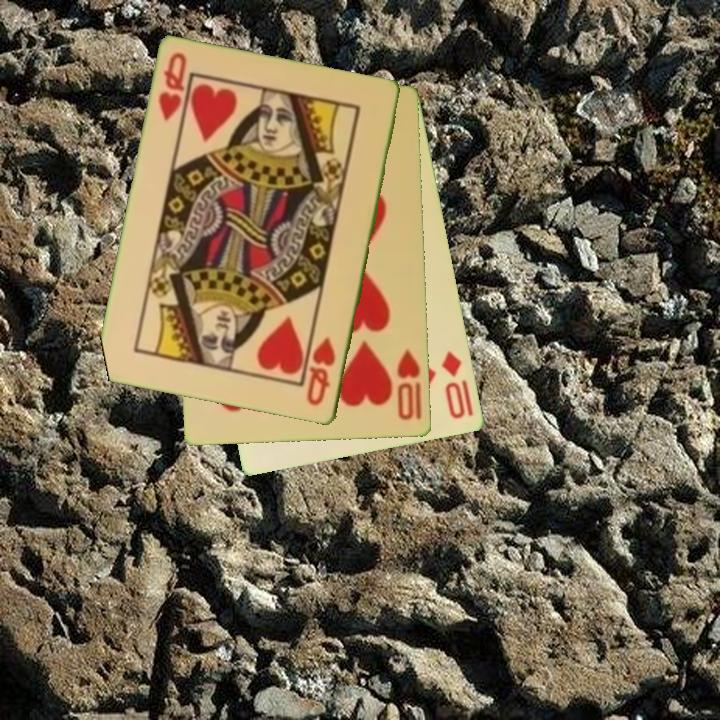10d: (438, 348, 477, 422)
10h: (394, 346, 425, 424)
Qh: (303, 333, 339, 409), (155, 49, 190, 124)
